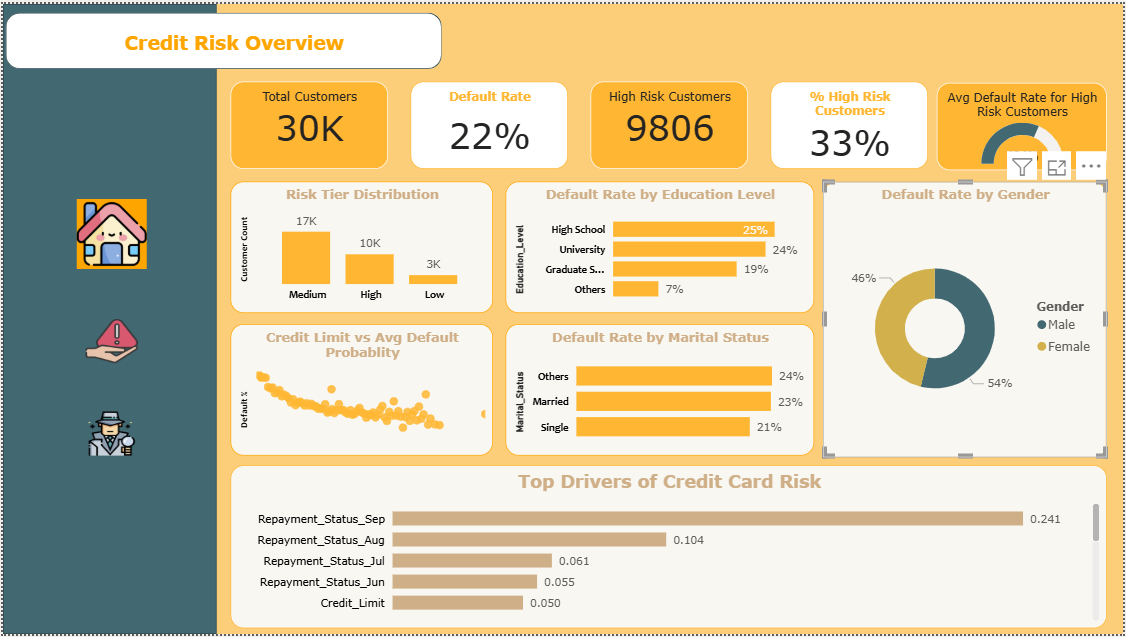

This screenshot's page, from the dashboard's own definition file:
{"tool":"powerbi","page":{"name":"Credit Risk Overview","canvas":[1280,720],"ordinal":0},"visuals":[{"type":"card","title":"Total Customers","fields":{"Values":["credit_default_risk_dashboard.Total_Customers"]},"box":[260.6,89.2,179.6,100.1],"z":0},{"type":"card","title":"Default Rate","fields":{"Values":["credit_default_risk_dashboard.Default_perc"]},"box":[466.1,89.2,179.6,100.1],"z":1000},{"type":"card","title":"% High Risk Customers","fields":{"Values":["credit_default_risk_dashboard.High_Risk_%"]},"box":[877.4,89.2,180,100],"z":2000},{"type":"card","title":"High Risk Customers","fields":{"Values":["credit_default_risk_dashboard.High_Risk_Count"]},"box":[671.6,89.2,180,100],"z":3000},{"type":"gauge","title":"Avg Default Rate for High Risk Customers","fields":{"Y":["credit_default_risk_dashboard.Average_prob_highrisk"]},"box":[1067.1,90,194.3,100],"z":4000},{"type":"clusteredColumnChart","title":"Risk Tier Distribution","fields":{"Category":["credit_default_risk_dashboard.Risk_Tier"],"Y":["credit_default_risk_dashboard.Total_Customers"]},"box":[260.6,203,300,150],"z":5000},{"type":"clusteredBarChart","title":"Default Rate by Education Level","fields":{"Category":["credit_default_risk_dashboard.Education_Level"],"Y":["credit_default_risk_dashboard.Default_perc"]},"box":[574,202.6,352.5,150],"z":6000},{"type":"donutChart","title":"Default Rate by Gender","fields":{"Category":["credit_default_risk_dashboard.Gender"],"Y":["credit_default_risk_dashboard.Default_perc"]},"box":[937.1,202.9,324.3,315.7],"z":7000},{"type":"clusteredBarChart","title":"Default Rate by Marital Status","fields":{"Y":["credit_default_risk_dashboard.Default_perc"],"Category":["credit_default_risk_dashboard.Marital_Status"]},"box":[574,366.3,352.5,150],"z":8000},{"type":"scatterChart","title":"Credit Limit vs Avg Default Probablity","fields":{"X":["credit_default_risk_dashboard.Credit_Limit"],"Y":["Avg(credit_default_risk_dashboard.Default_Prob)"]},"box":[260.2,365.9,300,150.5],"z":9000},{"type":"clusteredBarChart","title":"Top Drivers of Credit Card Risk","fields":{"Category":["Feature_Importance.Feature"],"Y":["Sum(Feature_Importance.Importance)"]},"box":[260.2,527.8,1001.9,186.7],"z":10000},{"type":"shape","box":[0,0,244.3,720],"z":11000},{"type":"shape","title":"T","box":[2.9,10,498.6,64.3],"z":12000},{"type":"textbox","box":[30,10,468.6,64.3],"z":13000},{"type":"actionButton","title":"Go to Detailed View","box":[84.8,222.9,80,80],"z":14000},{"type":"actionButton","box":[94.8,359.3,60,50],"z":15000},{"type":"actionButton","box":[94.8,465.7,60,50],"z":16000}]}

Visuals, with their boxes in screenshot pixels (x1, y1, x2, y2), scaled from the page's 1280x720 canvas onto the 1126x637 screenshot:
"Total Customers" card: detection(229, 79, 387, 167)
"Default Rate" card: detection(410, 79, 568, 167)
"% High Risk Customers" card: detection(772, 79, 930, 167)
"High Risk Customers" card: detection(591, 79, 749, 167)
"Avg Default Rate for High Risk Customers" gauge: detection(939, 80, 1110, 168)
"Risk Tier Distribution" clusteredColumnChart: detection(229, 180, 493, 312)
"Default Rate by Education Level" clusteredBarChart: detection(505, 179, 815, 312)
"Default Rate by Gender" donutChart: detection(824, 180, 1110, 459)
"Default Rate by Marital Status" clusteredBarChart: detection(505, 324, 815, 457)
"Credit Limit vs Avg Default Probablity" scatterChart: detection(229, 324, 493, 457)
"Top Drivers of Credit Card Risk" clusteredBarChart: detection(229, 467, 1110, 632)
shape: detection(0, 0, 215, 636)
"T" shape: detection(3, 9, 441, 66)
textbox: detection(26, 9, 439, 66)
"Go to Detailed View" actionButton: detection(75, 197, 145, 268)
actionButton: detection(83, 318, 136, 362)
actionButton: detection(83, 412, 136, 456)
